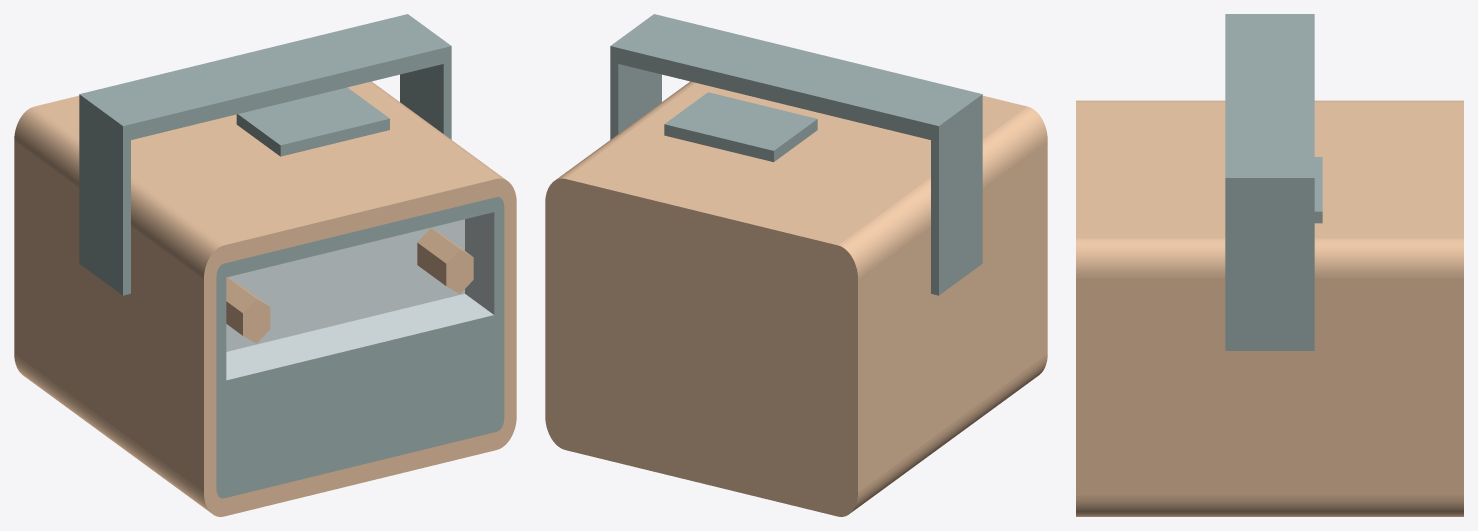
File: kn-radio.glb
The picture shows the model from 3 angles, left to right: view 1: azimuth 30°, elevation 25°; view 2: azimuth 150°, elevation 25°; view 3: azimuth 270°, elevation 25°; orthographic projection. The views are drawn at different scales.
Parts seen in each view (by area): view 1: radio(Clone); view 2: radio(Clone); view 3: radio(Clone).
Part boxes in pixels (left/top/right/bottom): radio(Clone): left=14, top=14, right=516, bottom=516; radio(Clone): left=545, top=14, right=1047, bottom=516; radio(Clone): left=1076, top=14, right=1463, bottom=516.
Bounding box in the file's own units: 1 × 1 × 1.
